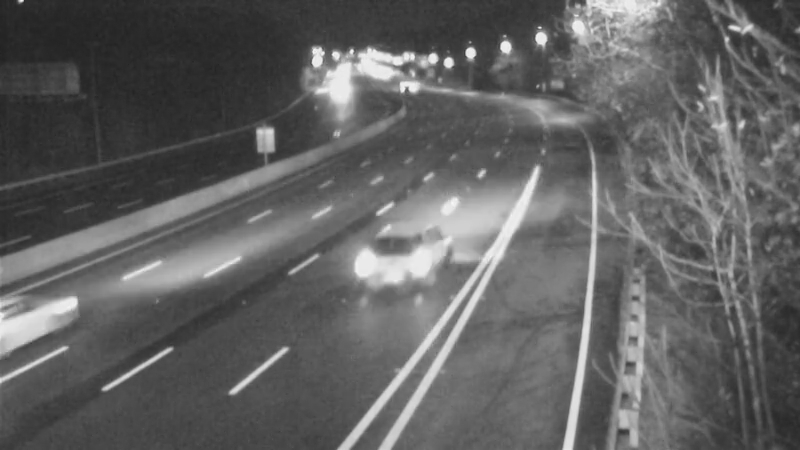vehicle: (1, 261, 96, 371), (364, 227, 444, 307), (379, 65, 429, 115), (310, 68, 360, 118)
